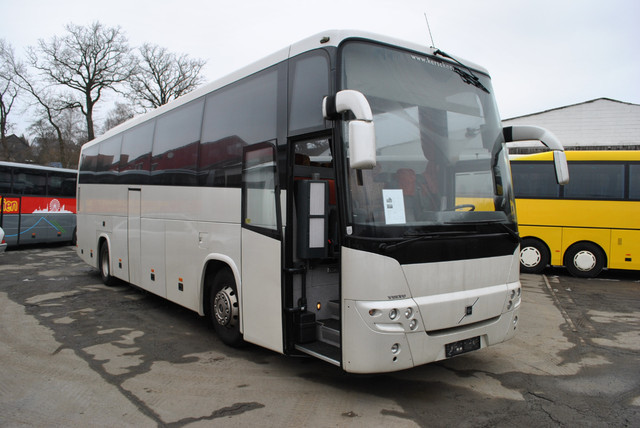bus: (73, 28, 523, 376)
